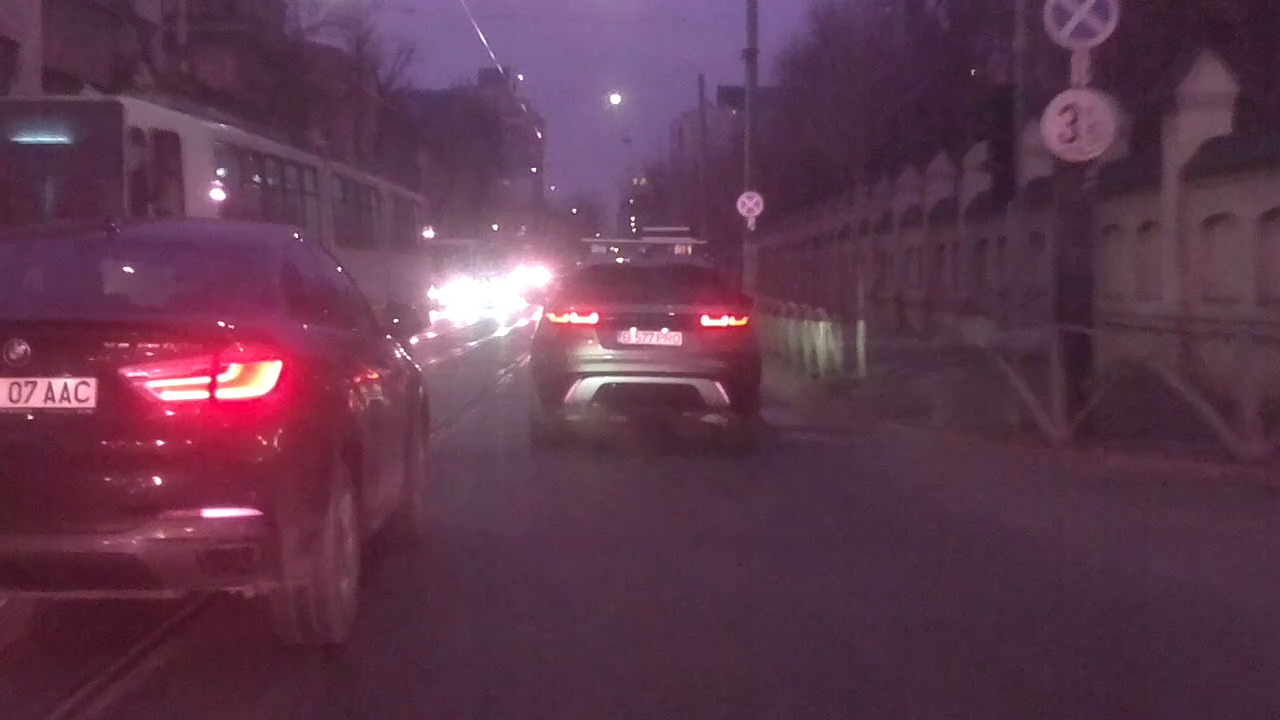license-plate: (614, 329, 685, 347)
